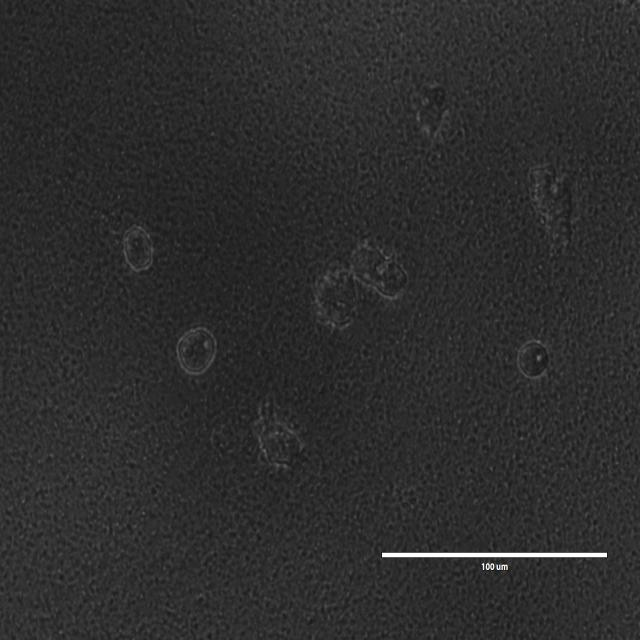Amoeba: (527, 158, 582, 258), (350, 241, 408, 302), (254, 397, 305, 463), (315, 266, 361, 326), (173, 326, 216, 377), (412, 80, 446, 140), (121, 223, 156, 274), (515, 339, 549, 379)
